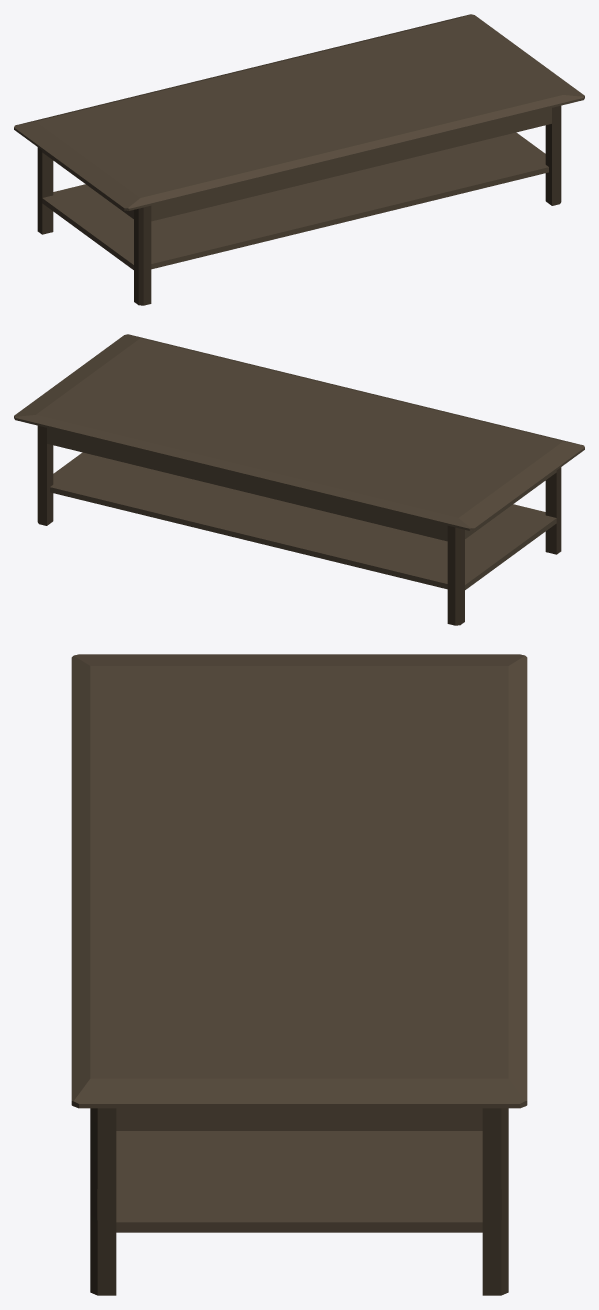
Rendered from CoffeeTable.fbx.
The picture shows the model from 3 angles, top to bottom: view 1: azimuth 30°, elevation 25°; view 2: azimuth 150°, elevation 25°; view 3: azimuth 270°, elevation 25°; orthographic projection. The views are drawn at different scales.
Parts seen in each view (by area): view 1: pCube2; view 2: pCube2; view 3: pCube2.
Boxes of the visible parts, x1=… form: pCube2: x1=14, y1=14, x2=584, y2=305; pCube2: x1=14, y1=334, x2=584, y2=625; pCube2: x1=71, y1=654, x2=527, y2=1295.
Size of the model in its own units: 3.68 by 0.8284 by 1.58.
